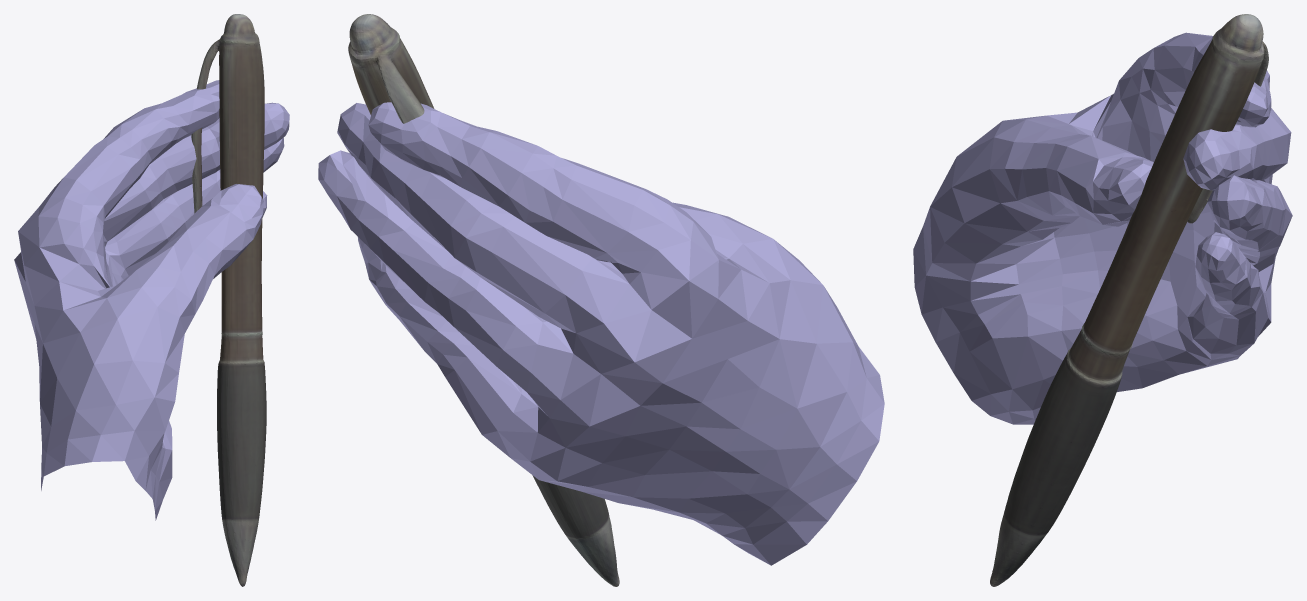
The model's file is frame_0005_source_000005_hand_object.glb.
3 renders of one model, left to right at view 1: azimuth 30°, elevation 25°; view 2: azimuth 150°, elevation 25°; view 3: azimuth 270°, elevation 25°, orthographic. The views are drawn at different scales.
Parts seen in each view (by area): view 1: world; view 2: world; view 3: world.
Part boxes in pixels (<box>): world: <box>14,14,289,586</box>; world: <box>318,14,884,586</box>; world: <box>913,14,1292,586</box>.
Size of the model in its own units: 0.128 by 0.1772 by 0.0967.
